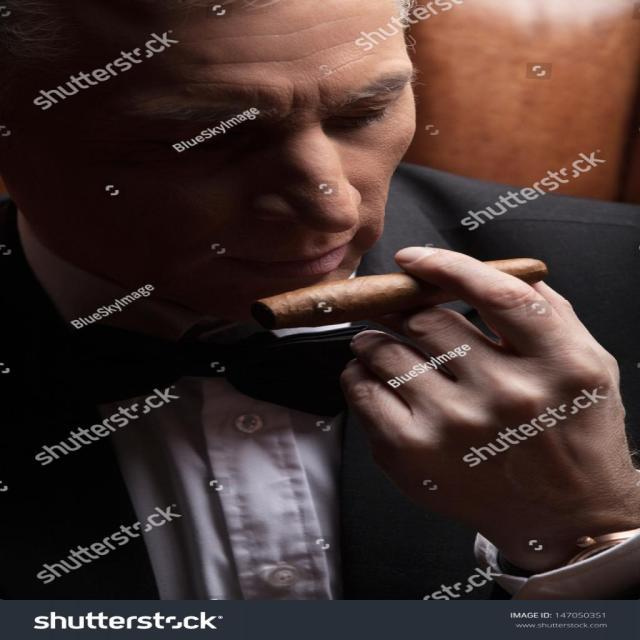smoking: (249, 257, 458, 342), (484, 252, 550, 286)
